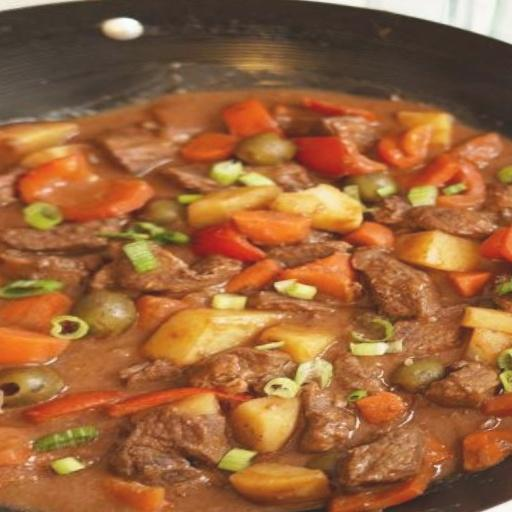pork caldereta: (0, 86, 511, 510)
